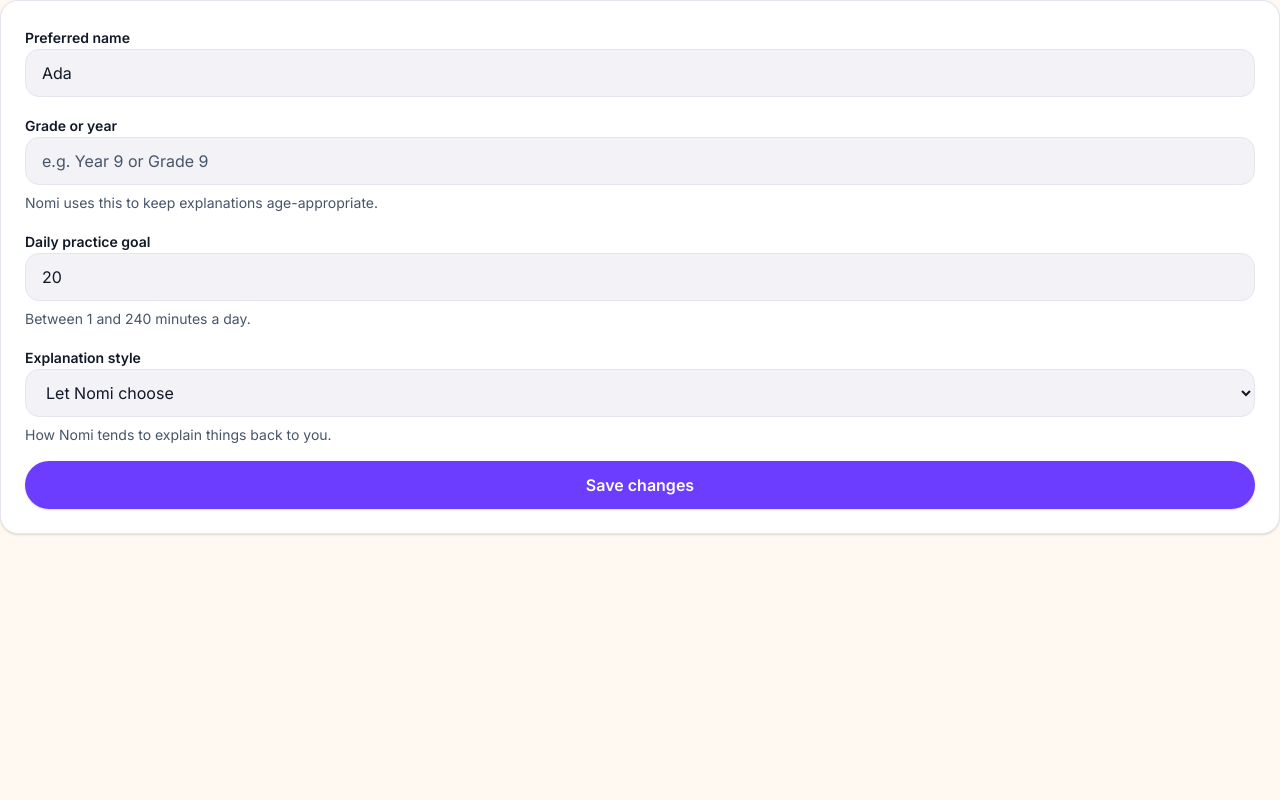
Scenario: ProfilePreferencesForm › surfaces a message-level failure from the action
The width and height of the screenshot is (1280, 800).
Click the button "Save changes": (640, 485) top-left (25, 461), bottom-right (1255, 509)
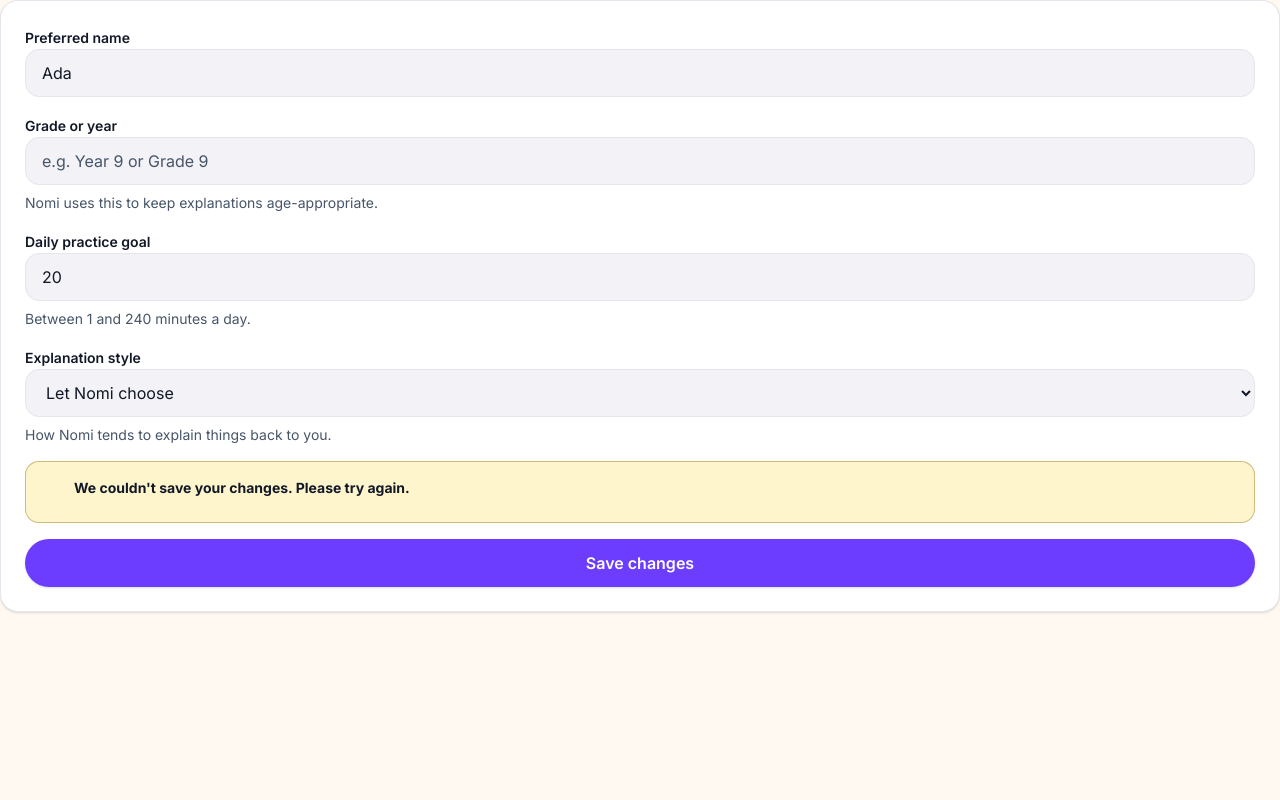
Now the text "We couldn't save your changes. Please try again." is shown, box top-left (74, 479), bottom-right (410, 496)
